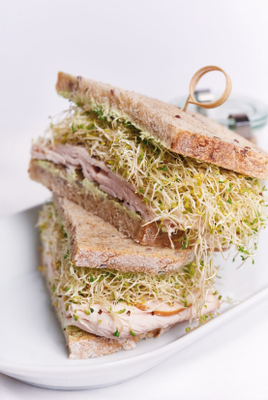soup: (27, 71, 267, 354)
